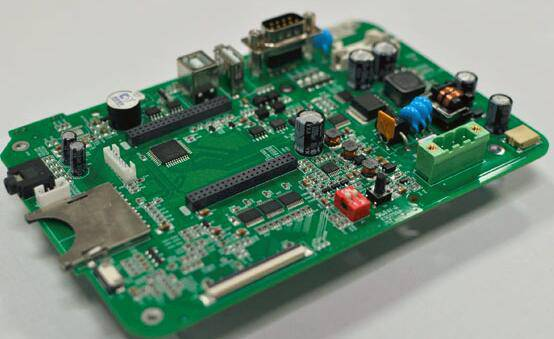capacitor: (291, 103, 331, 162), (340, 42, 376, 103), (480, 87, 518, 137), (371, 30, 400, 74)
